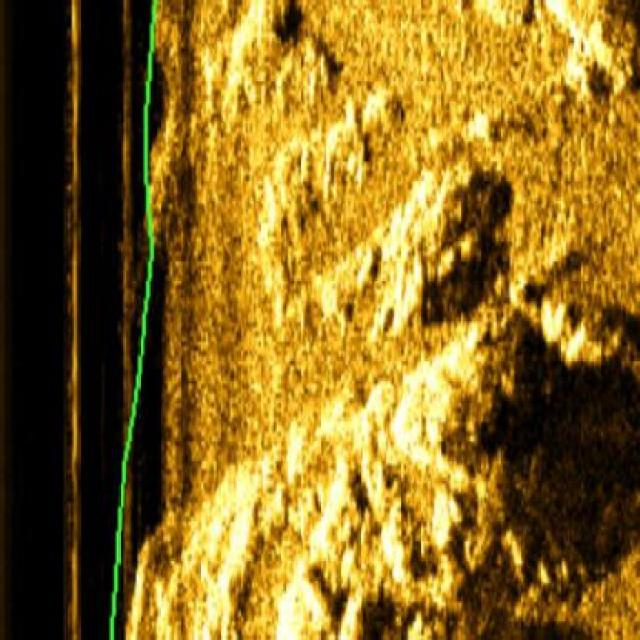bedrock group: (138, 0, 638, 638)
